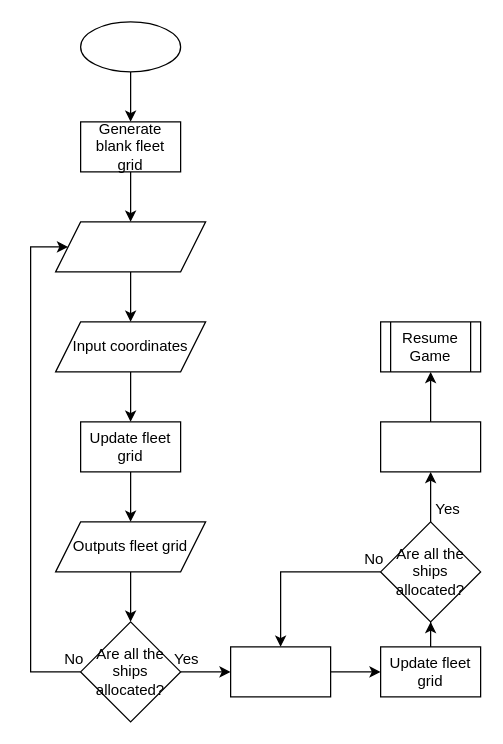
The diagram is 503 pixels wide and 744 high, and some of its shapes have lost their labels. The centre of each missing label's shape, as x and y in pixels:
Generate coordiates: (280,671)
New Game: (130,46)
Output fleet grid: (130,246)
Save Game: (430,446)
